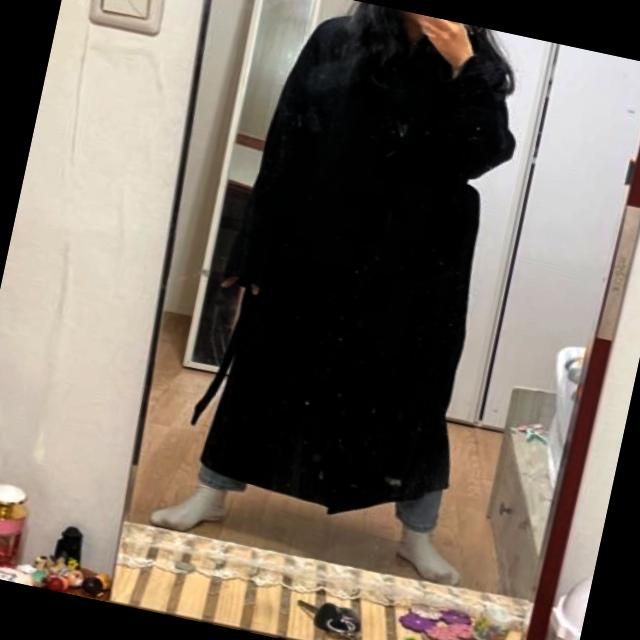coat: (177, 0, 540, 539)
